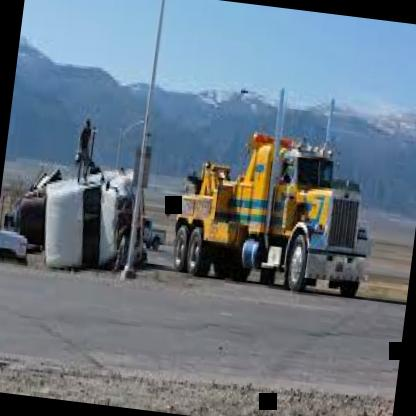accident: (0, 116, 173, 323)
